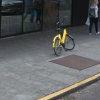Bicycle: (45, 13, 78, 58)
